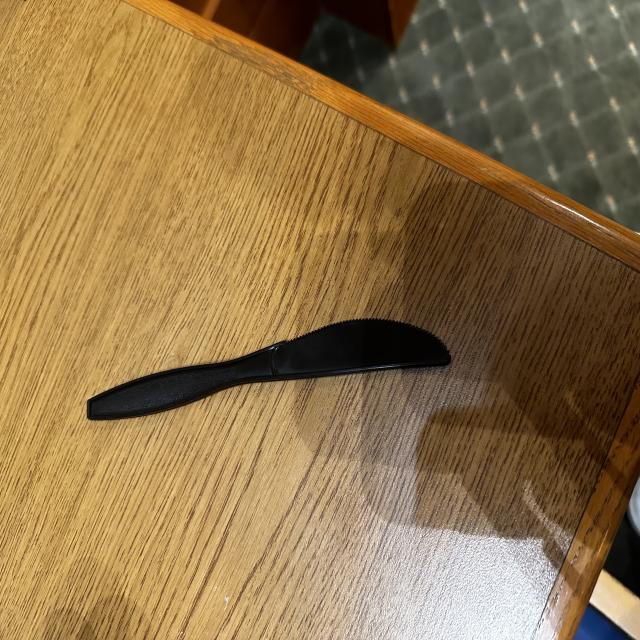knife: (62, 307, 474, 432)
